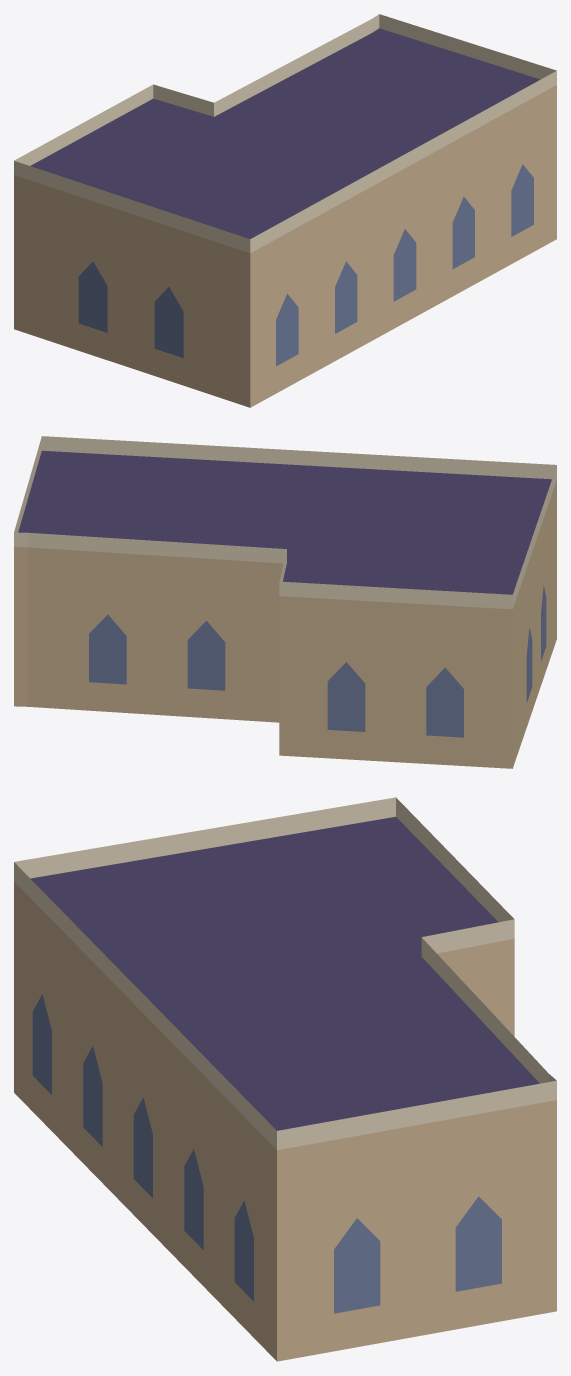
The model's file is b-053-day.glb.
3 renders of one model, top to bottom at view 1: azimuth 30°, elevation 25°; view 2: azimuth 150°, elevation 25°; view 3: azimuth 270°, elevation 25°, orthographic. The views are drawn at different scales.
Visible parts, largest first — view 1: campus/b-053-day-0; view 2: campus/b-053-day-0; view 3: campus/b-053-day-0.
Part boxes in pixels (left/top/right/bottom): campus/b-053-day-0: left=14, top=14, right=556, bottom=407; campus/b-053-day-0: left=14, top=436, right=556, bottom=768; campus/b-053-day-0: left=14, top=797, right=556, bottom=1361.
Bounding box in the file's own units: 20.31 × 6.55 × 13.97.
